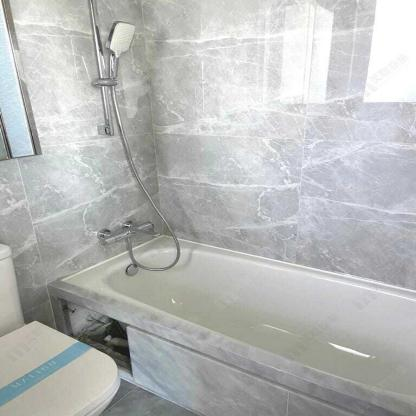Bathtub: (46, 234, 415, 416)
Toilet: (0, 241, 119, 413)
